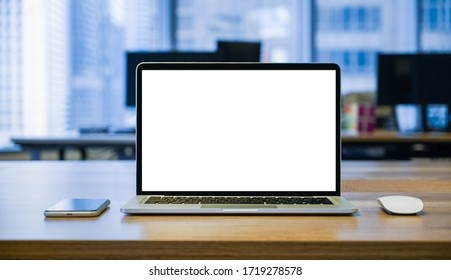laptop: (114, 46, 368, 231)
